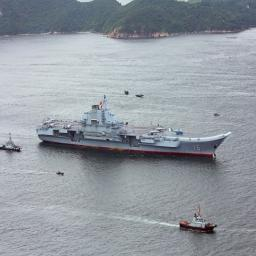Portanaves: (35, 87, 234, 162)
